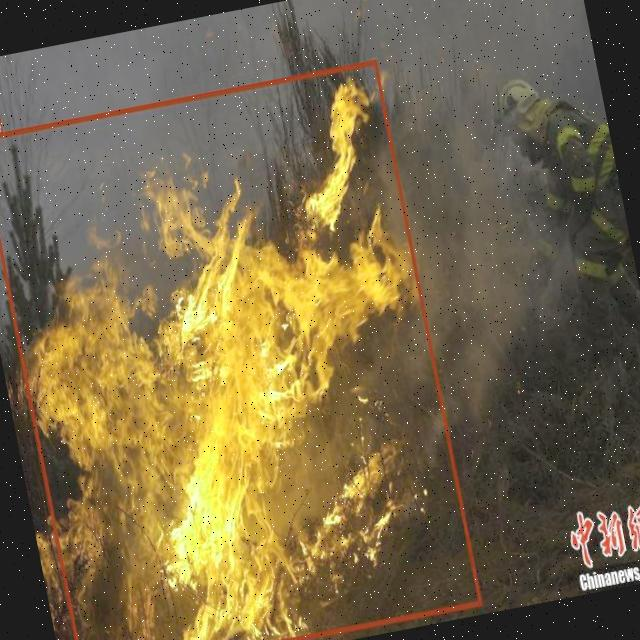fire: (0, 59, 481, 640)
